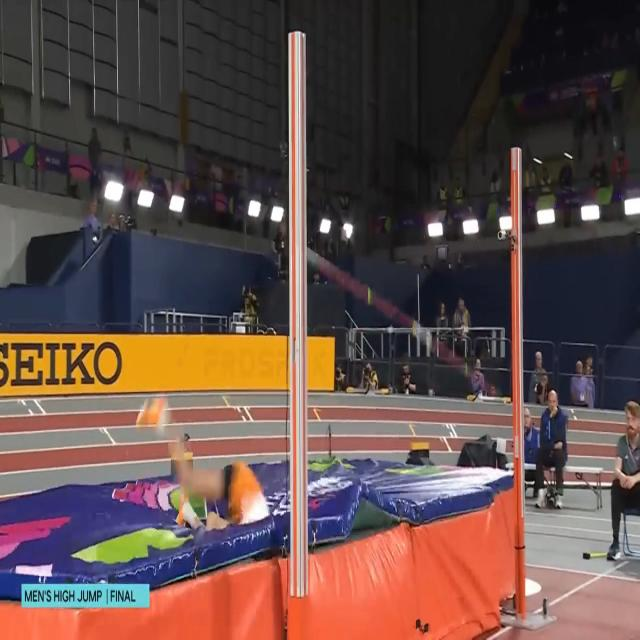land: (136, 393, 270, 531)
